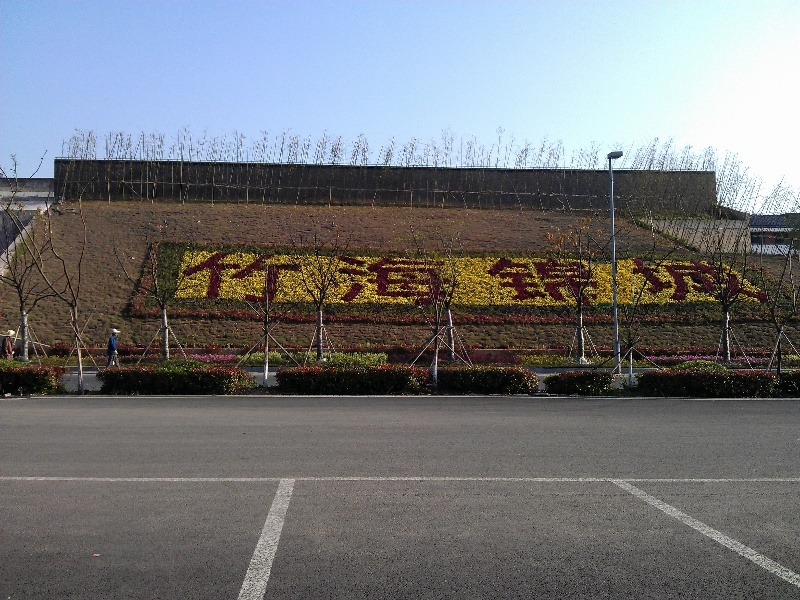text: (193, 250, 208, 312), (209, 250, 224, 312), (225, 250, 240, 312), (241, 250, 256, 312), (257, 250, 272, 312), (273, 250, 288, 312), (289, 250, 304, 312), (305, 250, 320, 312), (321, 250, 336, 312), (337, 250, 352, 312), (353, 250, 368, 312), (369, 250, 384, 312), (385, 250, 400, 312), (401, 250, 416, 312), (417, 250, 432, 312), (433, 250, 448, 312), (449, 250, 464, 312), (465, 250, 480, 312), (481, 250, 496, 312), (497, 250, 512, 312), (513, 250, 528, 312), (529, 250, 544, 312), (545, 250, 560, 312), (561, 250, 576, 312), (577, 250, 592, 312), (593, 250, 608, 312), (609, 250, 624, 312), (625, 250, 640, 312), (641, 250, 656, 312), (657, 250, 672, 312), (673, 250, 688, 312), (689, 250, 704, 312), (705, 250, 720, 312), (721, 250, 736, 312), (737, 250, 752, 312), (753, 250, 768, 312), (769, 250, 784, 312), (182, 250, 192, 312), (785, 250, 786, 312)
